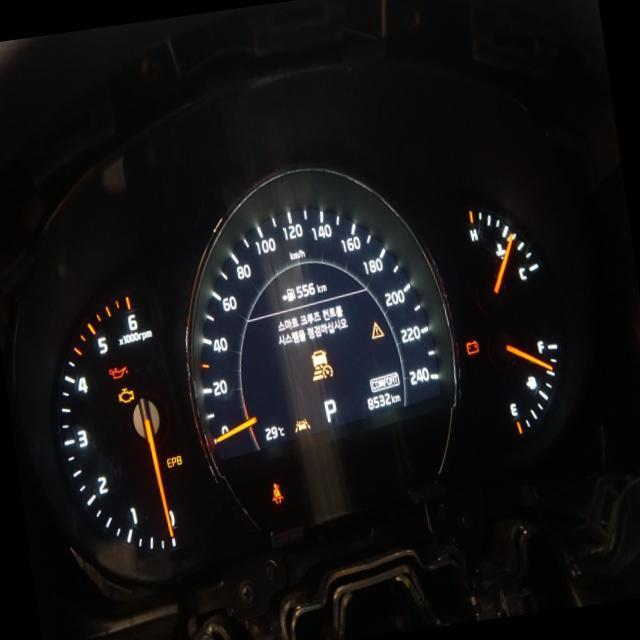Central Warning lamp: (368, 318, 385, 339)
